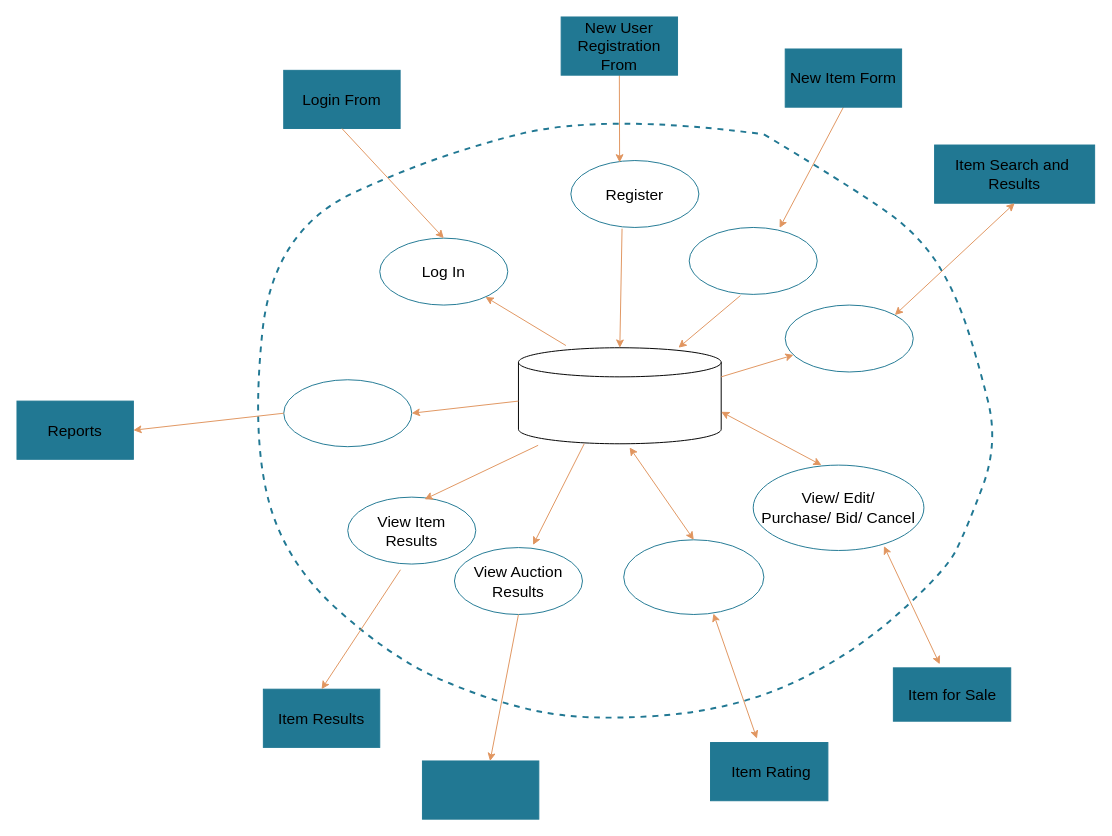
The diagram is 1112 pixels wide and 836 high, and some of its shapes have lost their labels. The shapes that lost their labels are listed below. From the top down, each one's box as (x1, y1, x2, y2) in pixels, then its label:
(688, 226, 817, 294): List Item
(784, 304, 913, 372): Search for Item
(283, 379, 412, 447): View Reports
(517, 347, 721, 444): Database
(623, 539, 764, 614): View/ Delete Rating
(421, 760, 539, 819): Auction Results
